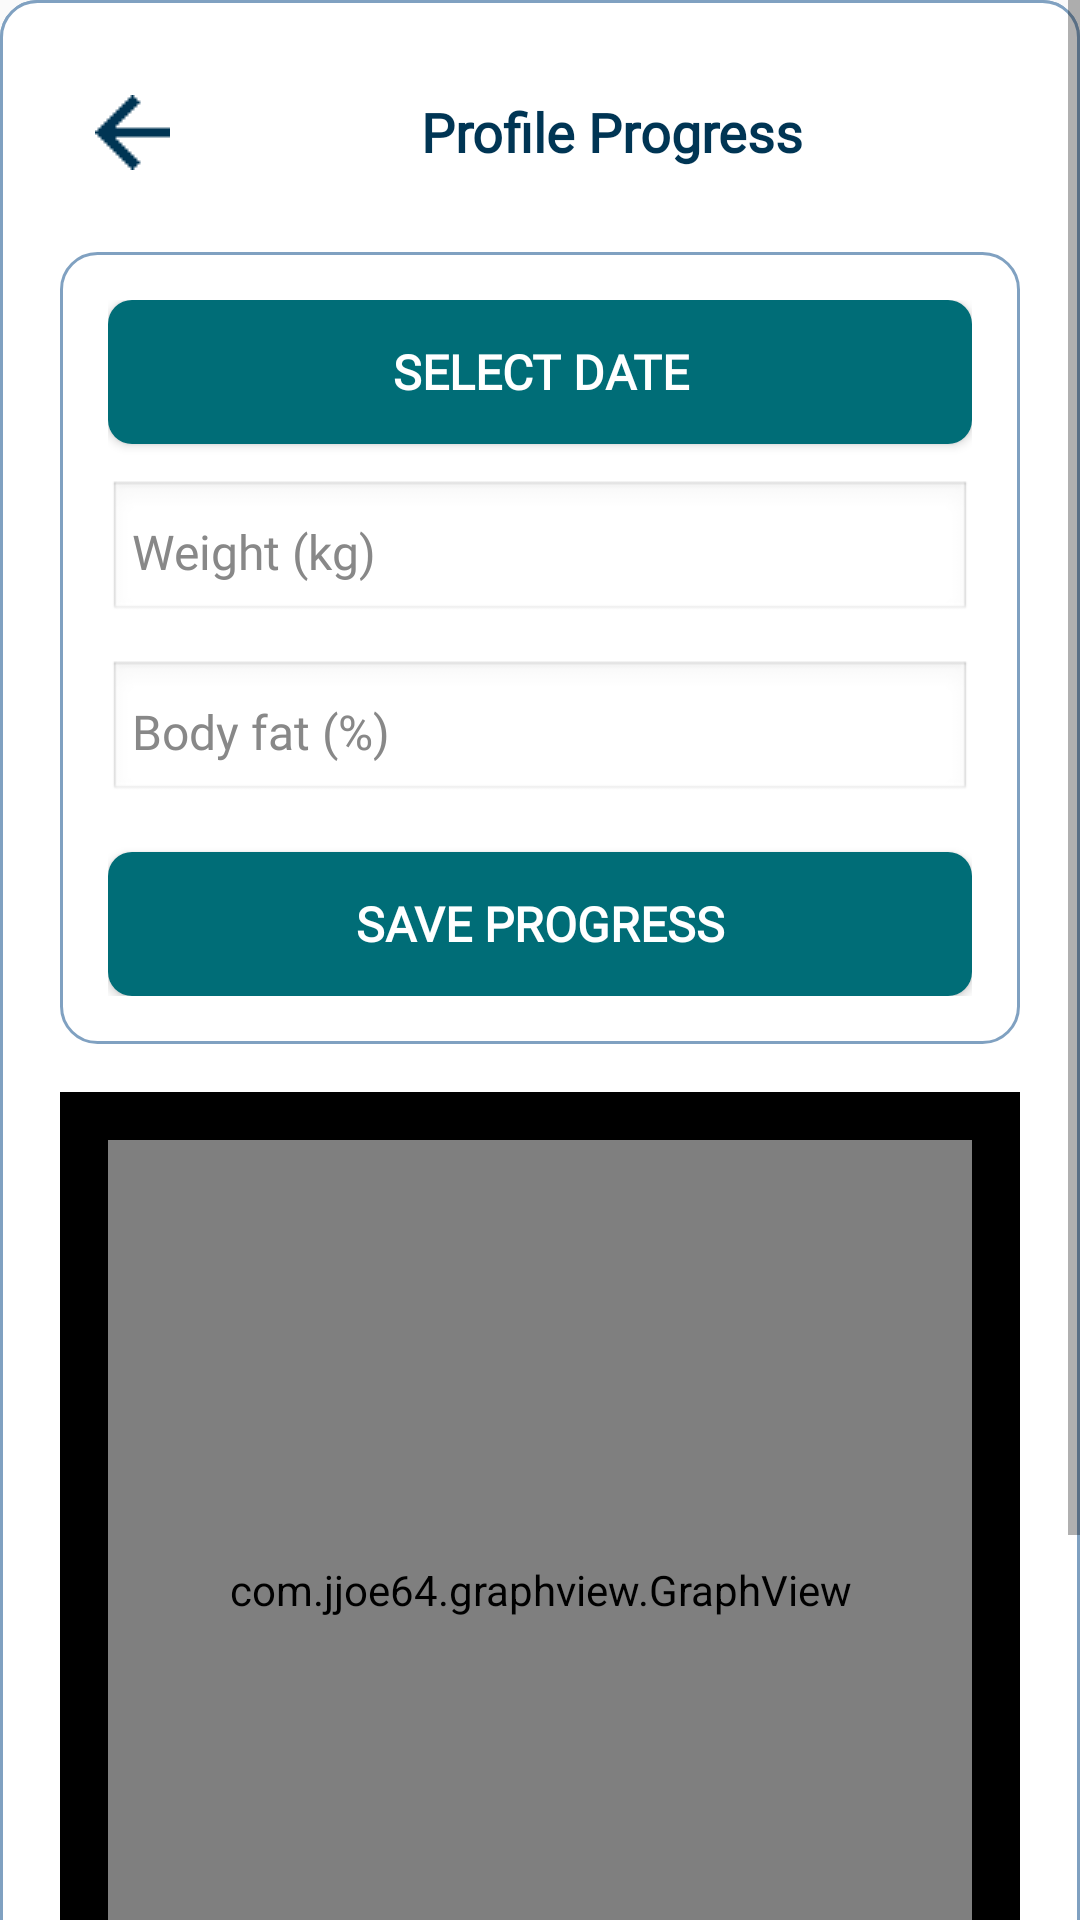

Icons on this 1080×1920 Android screen, each with the point to tap as (x=x, y=y):
Back Button: (x=132, y=132)
